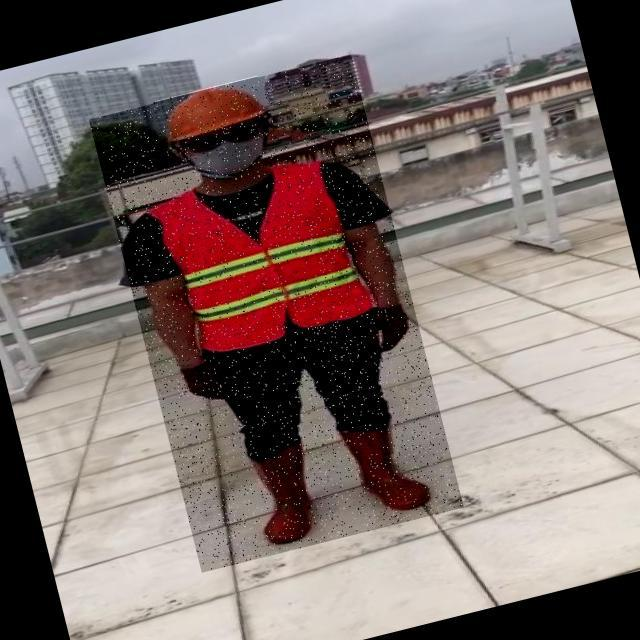Gloves: (177, 352, 244, 409), (357, 301, 412, 354)
Helmet: (152, 76, 268, 147)
Human: (89, 54, 464, 572)
Safety Boot: (342, 414, 431, 522), (243, 442, 324, 547)
Safety Vest: (149, 153, 375, 361)
